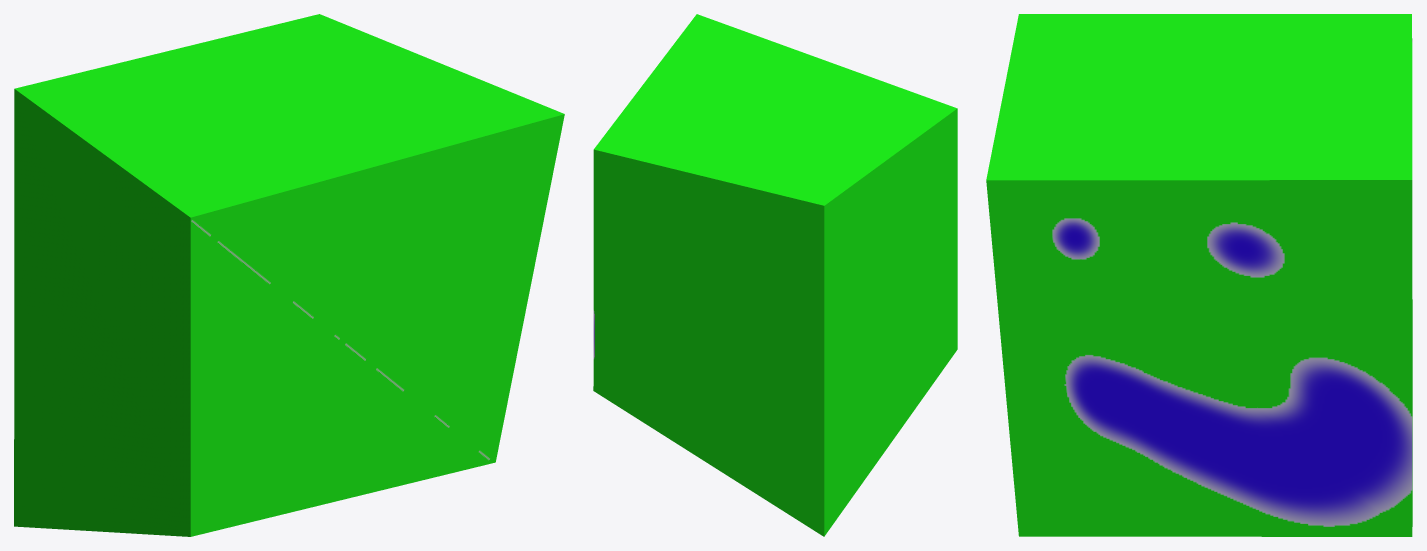
The picture shows the model from 3 angles, left to right: view 1: azimuth 30°, elevation 25°; view 2: azimuth 150°, elevation 25°; view 3: azimuth 270°, elevation 25°; orthographic projection. The views are drawn at different scales.
Parts seen in each view (by area): view 1: Cube; view 2: Cube; view 3: Cube.
Boxes of the visible parts, x1=… form: Cube: x1=14, y1=14, x2=564, y2=536; Cube: x1=593, y1=14, x2=957, y2=536; Cube: x1=986, y1=14, x2=1412, y2=536.
Size of what is drawn, in the model's own units: 2.36 by 2.91 by 2.17.
Materials: 1 (1 with a texture image).
